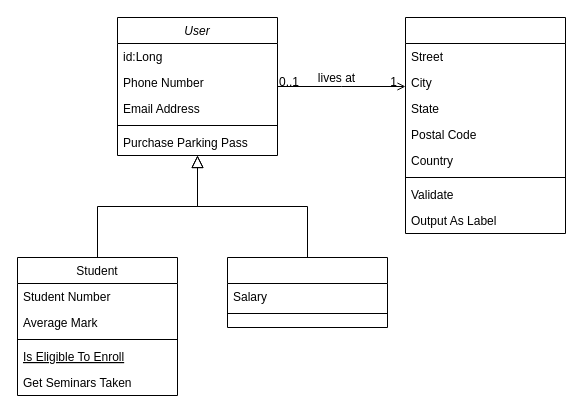
This 583x416 diagram has some shape labels left out. Each missing label, with the box of its shape:
Address: (404, 16, 566, 234)
Professor: (226, 256, 388, 328)
